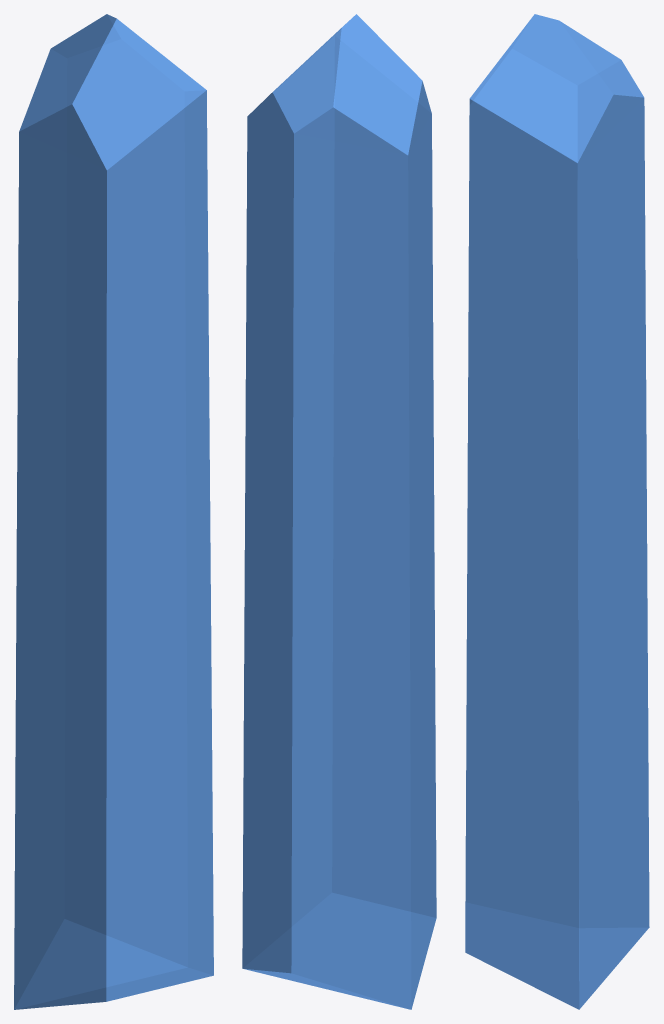
Rendered from Crystal_s_02.fbx.
The picture shows the model from 3 angles, left to right: view 1: azimuth 30°, elevation 25°; view 2: azimuth 150°, elevation 25°; view 3: azimuth 270°, elevation 25°; orthographic projection. The views are drawn at different scales.
Visible parts, largest first — view 1: Crystal_s_02; view 2: Crystal_s_02; view 3: Crystal_s_02.
Part boxes in pixels (left/top/right/bottom): Crystal_s_02: left=14, top=14, right=213, bottom=1009; Crystal_s_02: left=242, top=14, right=436, bottom=1009; Crystal_s_02: left=465, top=14, right=649, bottom=1009.
Size of the model in its own units: 0.245 by 1.33 by 0.233.
